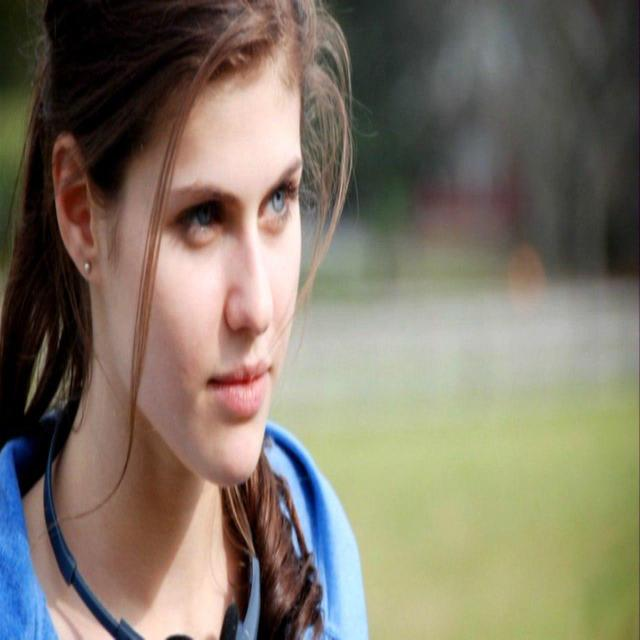no-earmuff: (42, 121, 120, 300)
